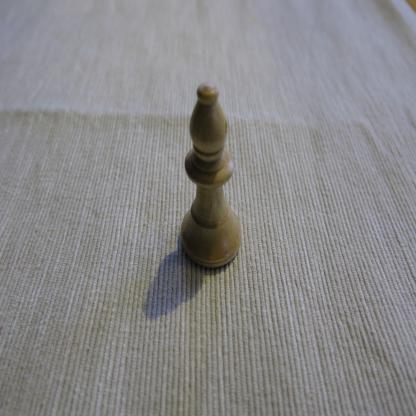white-bishop: (180, 81, 242, 270)
